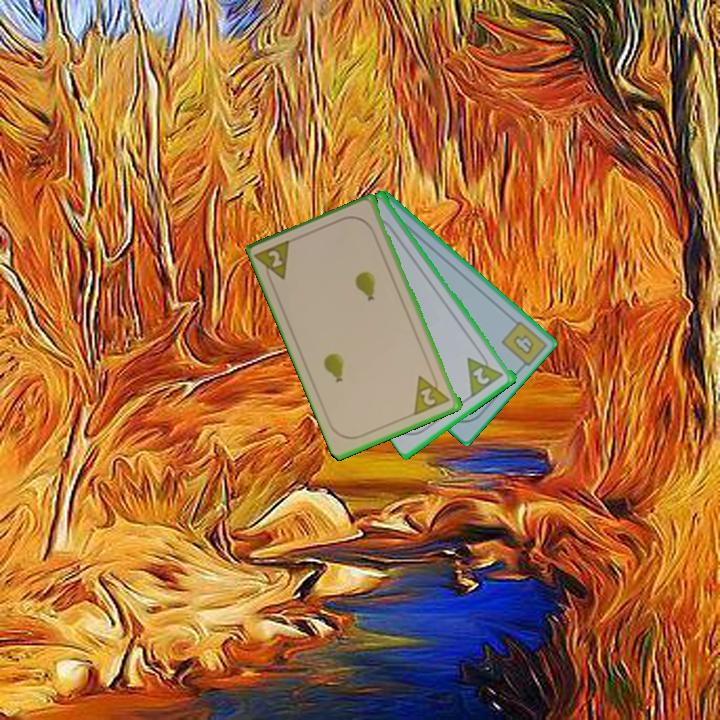2p: (253, 236, 296, 288), (411, 368, 453, 418), (469, 363, 493, 388)
4b: (510, 331, 538, 358)
